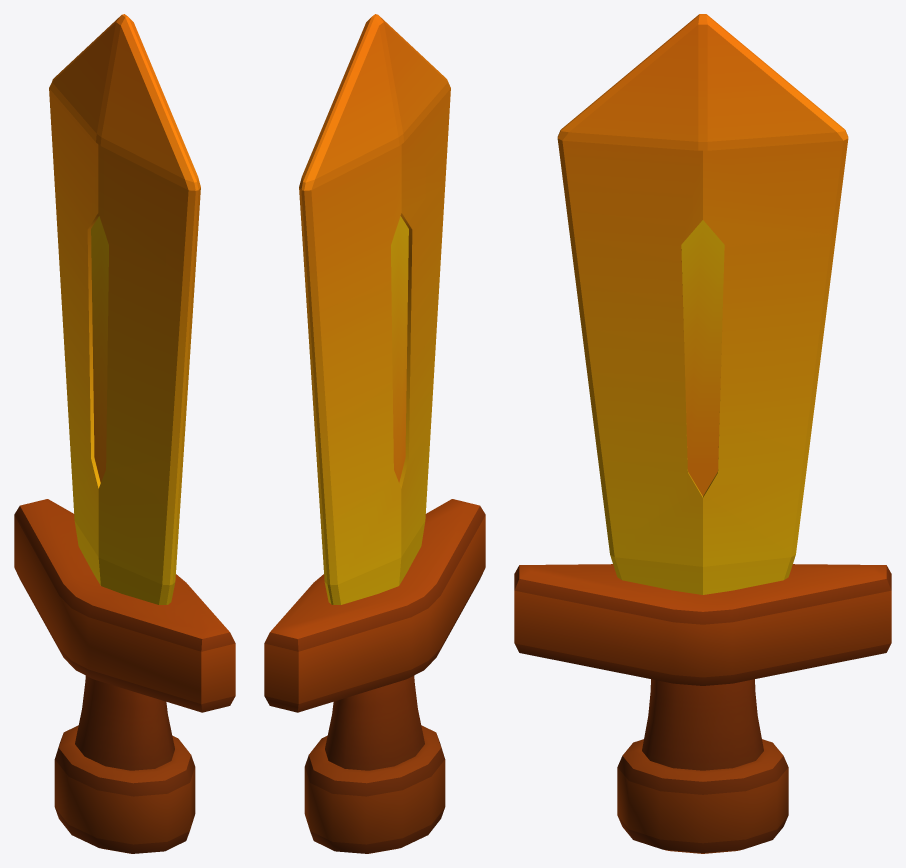
The model's file is Sword_V1_01.fbx.
3 views of the same model, side by side, from view 1: azimuth 30°, elevation 25°; view 2: azimuth 150°, elevation 25°; view 3: azimuth 270°, elevation 25° (orthographic).
Visible parts, largest first — view 1: Sword_V1_01; view 2: Sword_V1_01; view 3: Sword_V1_01.
Boxes of the visible parts, x1,y1,x2,y2 form: Sword_V1_01: [14, 14, 235, 853]; Sword_V1_01: [264, 14, 485, 853]; Sword_V1_01: [514, 14, 891, 853].
Size of the model in its own units: 5.81 by 39.84 by 16.66.
